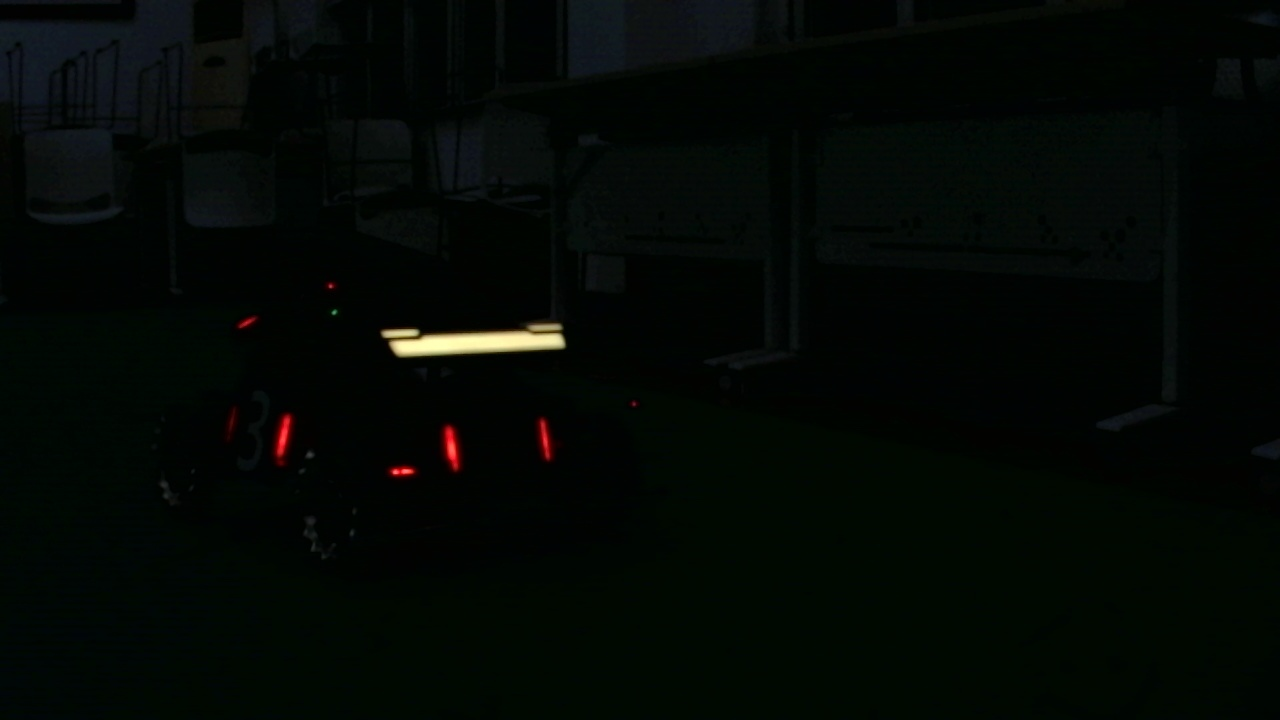lamp: (439, 409, 462, 476), (271, 408, 293, 463), (536, 416, 552, 471)
notpair1: (270, 408, 462, 485)
pair1: (440, 417, 551, 475)
